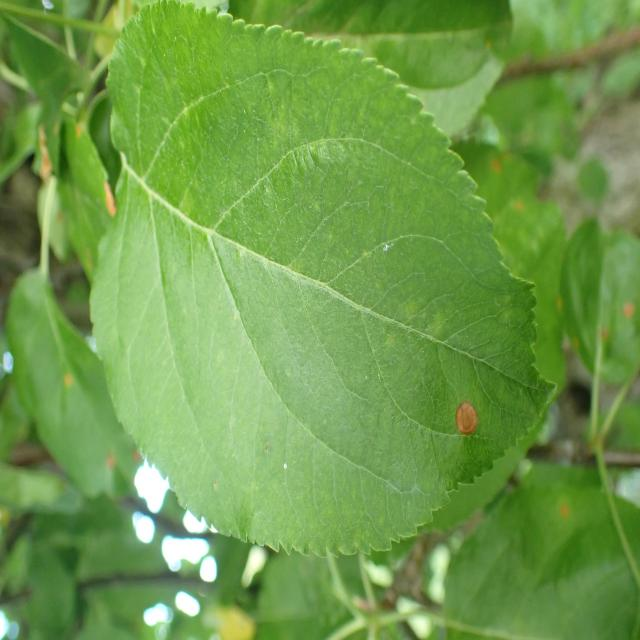Black Rot: (432, 382, 489, 473)
